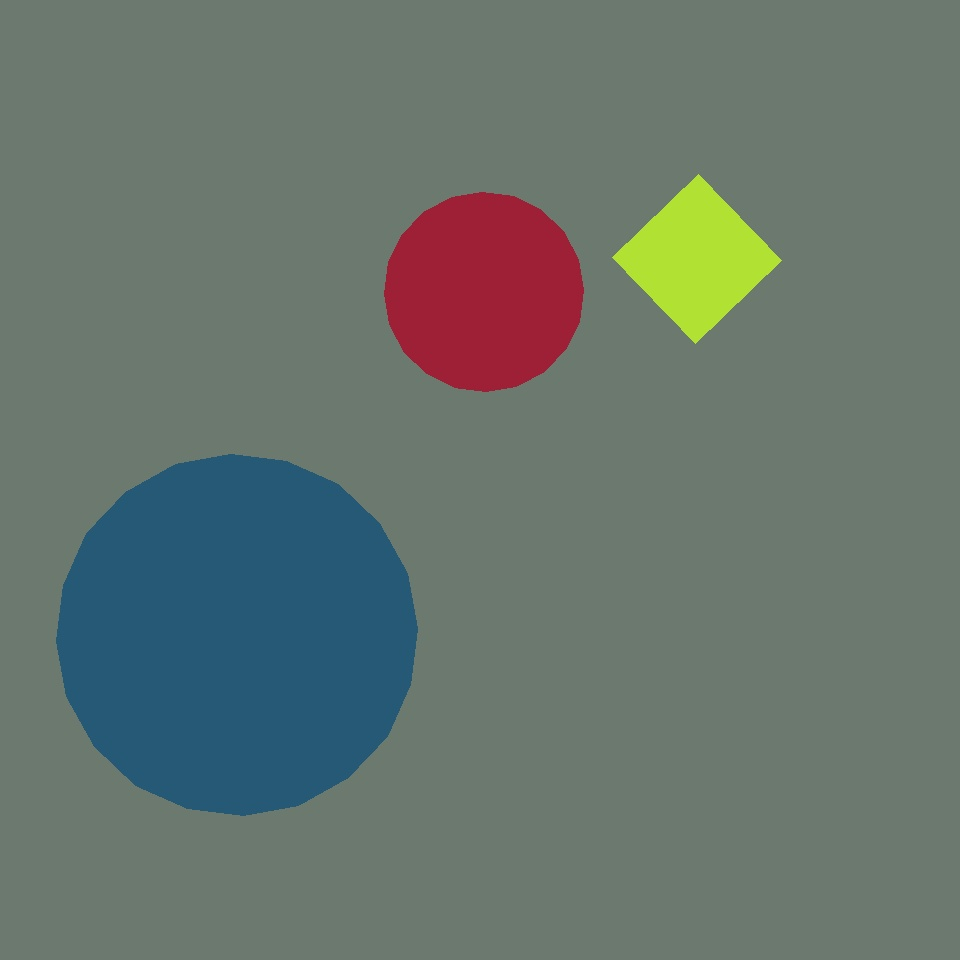circle: (135, 509, 410, 816), (696, 89, 921, 345), (506, 226, 688, 420), (667, 641, 842, 837)
square: (458, 247, 706, 494), (612, 174, 782, 344), (491, 76, 581, 166)
triangle: (57, 455, 418, 816), (384, 192, 584, 391)
